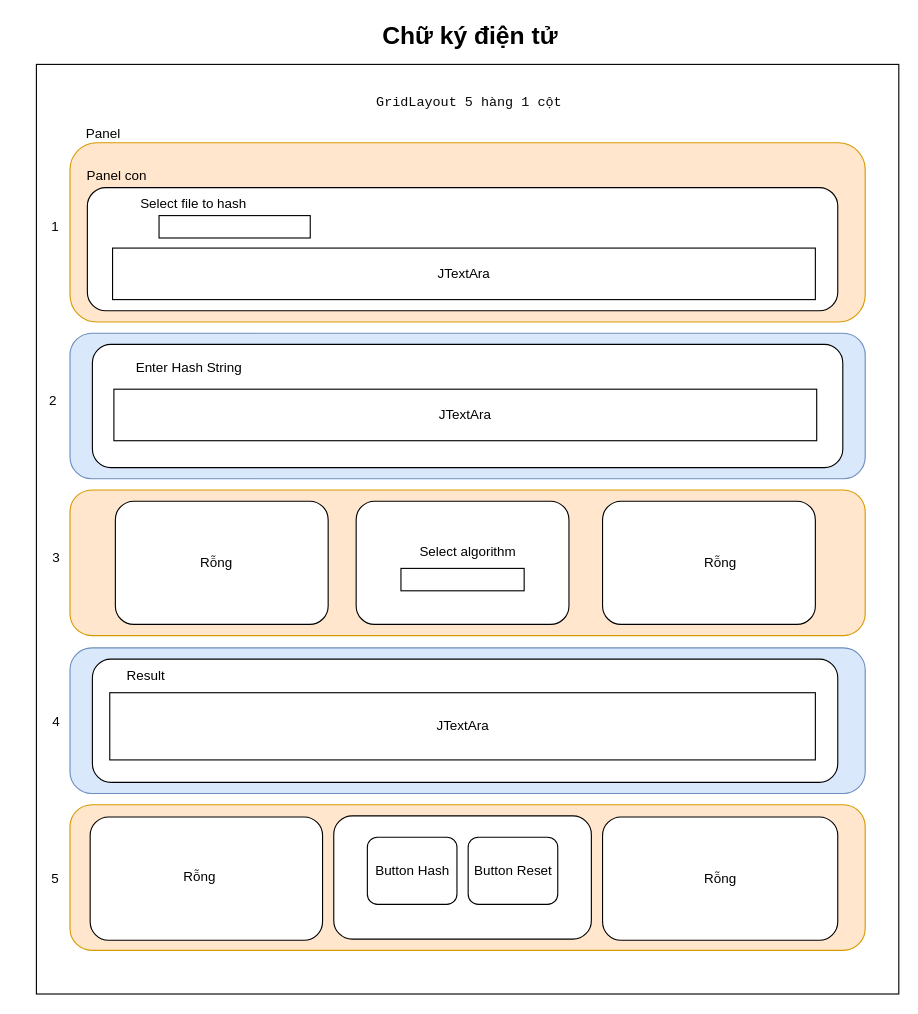
The diagram is 918 pixels wide and 1014 high, and some of its shapes have lost their labels. The box of each missing label's shape, as (x1, y1, x2, y2) in pixels:
Button Choose file: (158, 214, 310, 238)
JComboBox: (400, 567, 524, 591)
